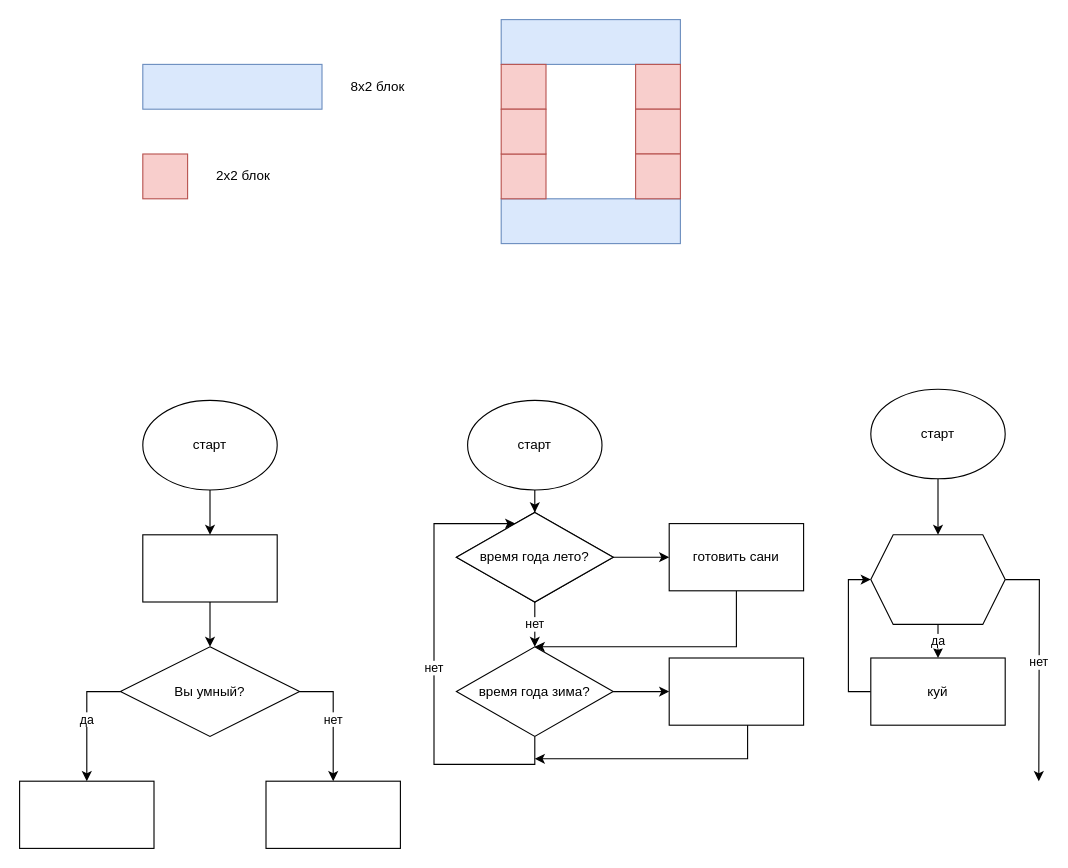
The diagram is 1068 pixels wide and 868 high, and some of its shapes have lost their labels. The shapes that lost their labels are listed below. From the top down, each one's centre as x and y in pixels, then its label:
At (209,568): "Наткнулись на гору".
At (937,579): "пока горячо".
At (736,691): "готовить телегу".
At (86,814): "обойти гору".
At (332,814): "пойти в гору".
